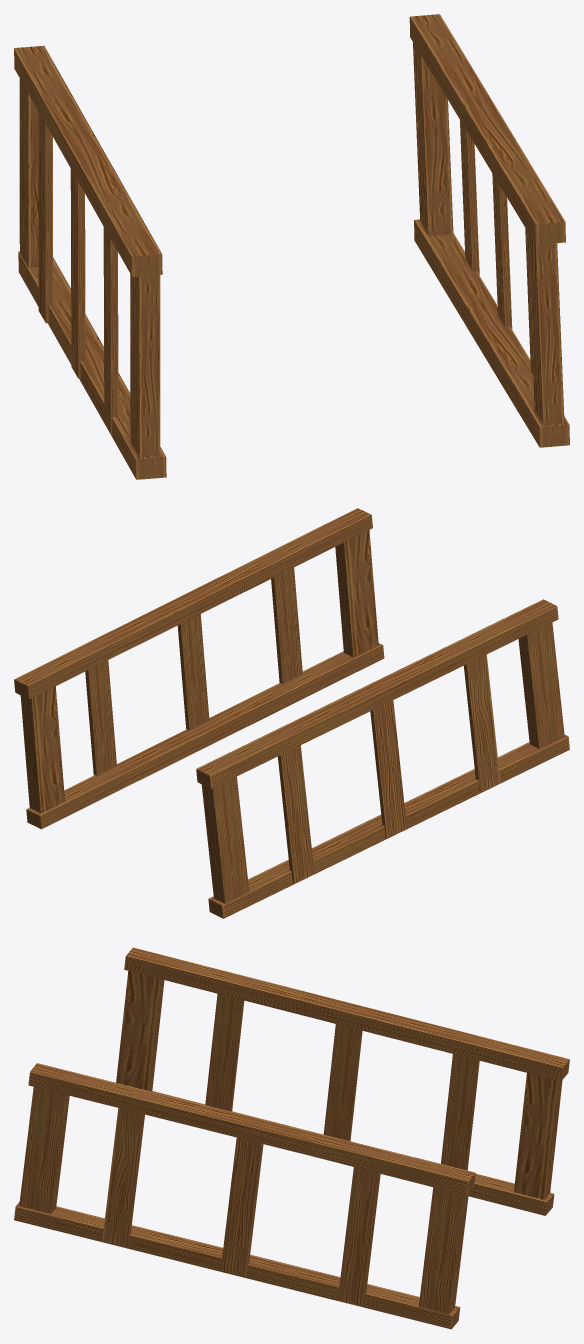
3 views of the same model, one above another, from view 1: azimuth 30°, elevation 25°; view 2: azimuth 150°, elevation 25°; view 3: azimuth 270°, elevation 25° (orthographic). The views are drawn at different scales.
Parts seen in each view (by area): view 1: Cube.1958; view 2: Cube.1958; view 3: Cube.1958.
Part boxes in pixels (x1=…): Cube.1958: x1=14, y1=14, x2=569, y2=479; Cube.1958: x1=14, y1=508, x2=569, y2=918; Cube.1958: x1=14, y1=947, x2=569, y2=1329.
Size of the model in its own units: 508 by 244 by 626.
1 material, 1 textured.
